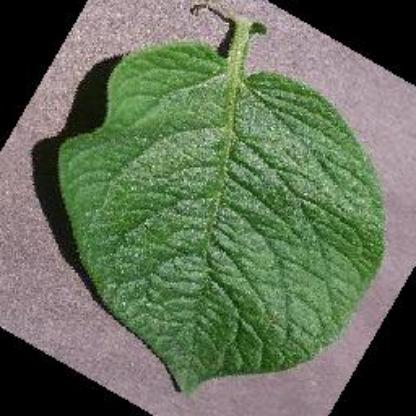Healthy-plant: (51, 8, 381, 392)
